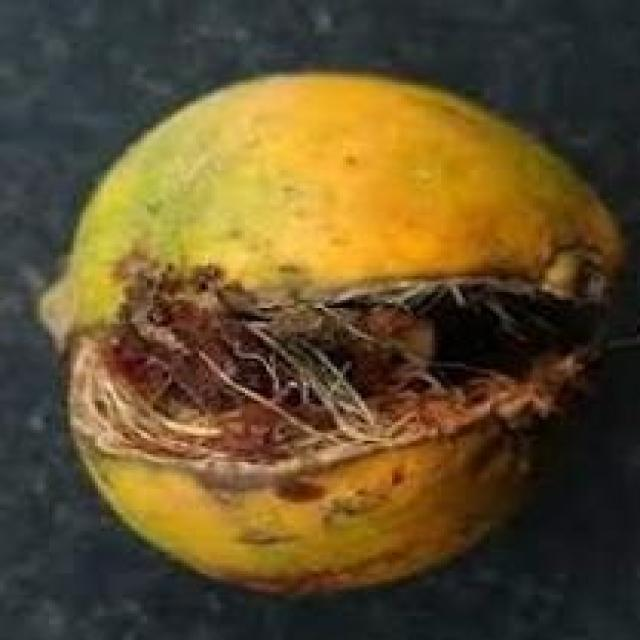damaged: (40, 74, 622, 590)
